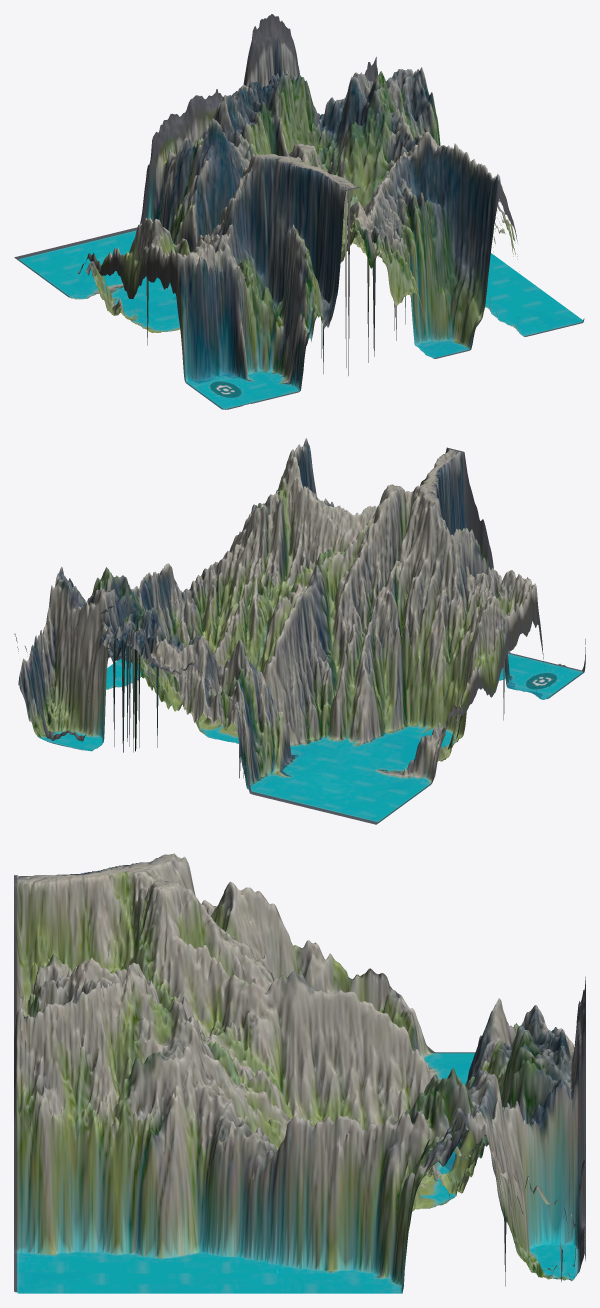
The model's file is dsm_57c0b60987_mesh.glb.
3 views of the same model, one above another, from view 1: azimuth 30°, elevation 25°; view 2: azimuth 150°, elevation 25°; view 3: azimuth 270°, elevation 25° (orthographic). The views are drawn at different scales.
Visible parts, largest first — view 1: geometry_0; view 2: geometry_0; view 3: geometry_0.
Part boxes in pixels (x1,y1,x2,y2): geometry_0: [14, 14, 584, 409]; geometry_0: [14, 438, 585, 824]; geometry_0: [14, 853, 585, 1293].
Size of the model in its own units: 2 by 1 by 2.
